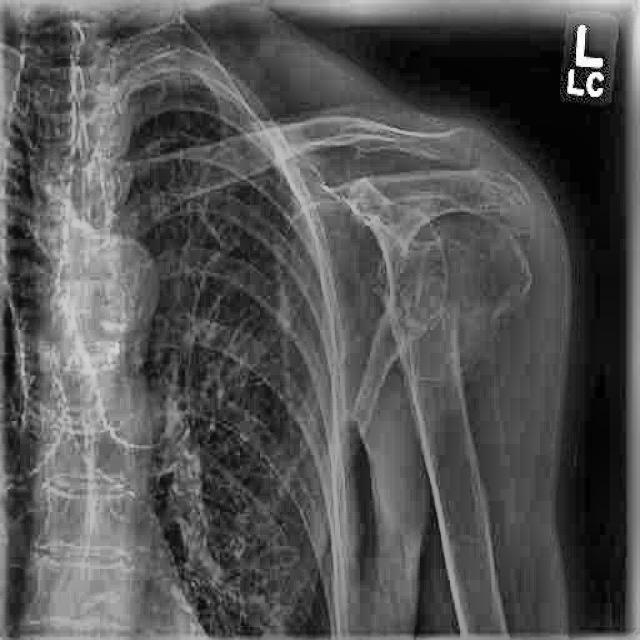shoulder fracture: (365, 263, 555, 395)
